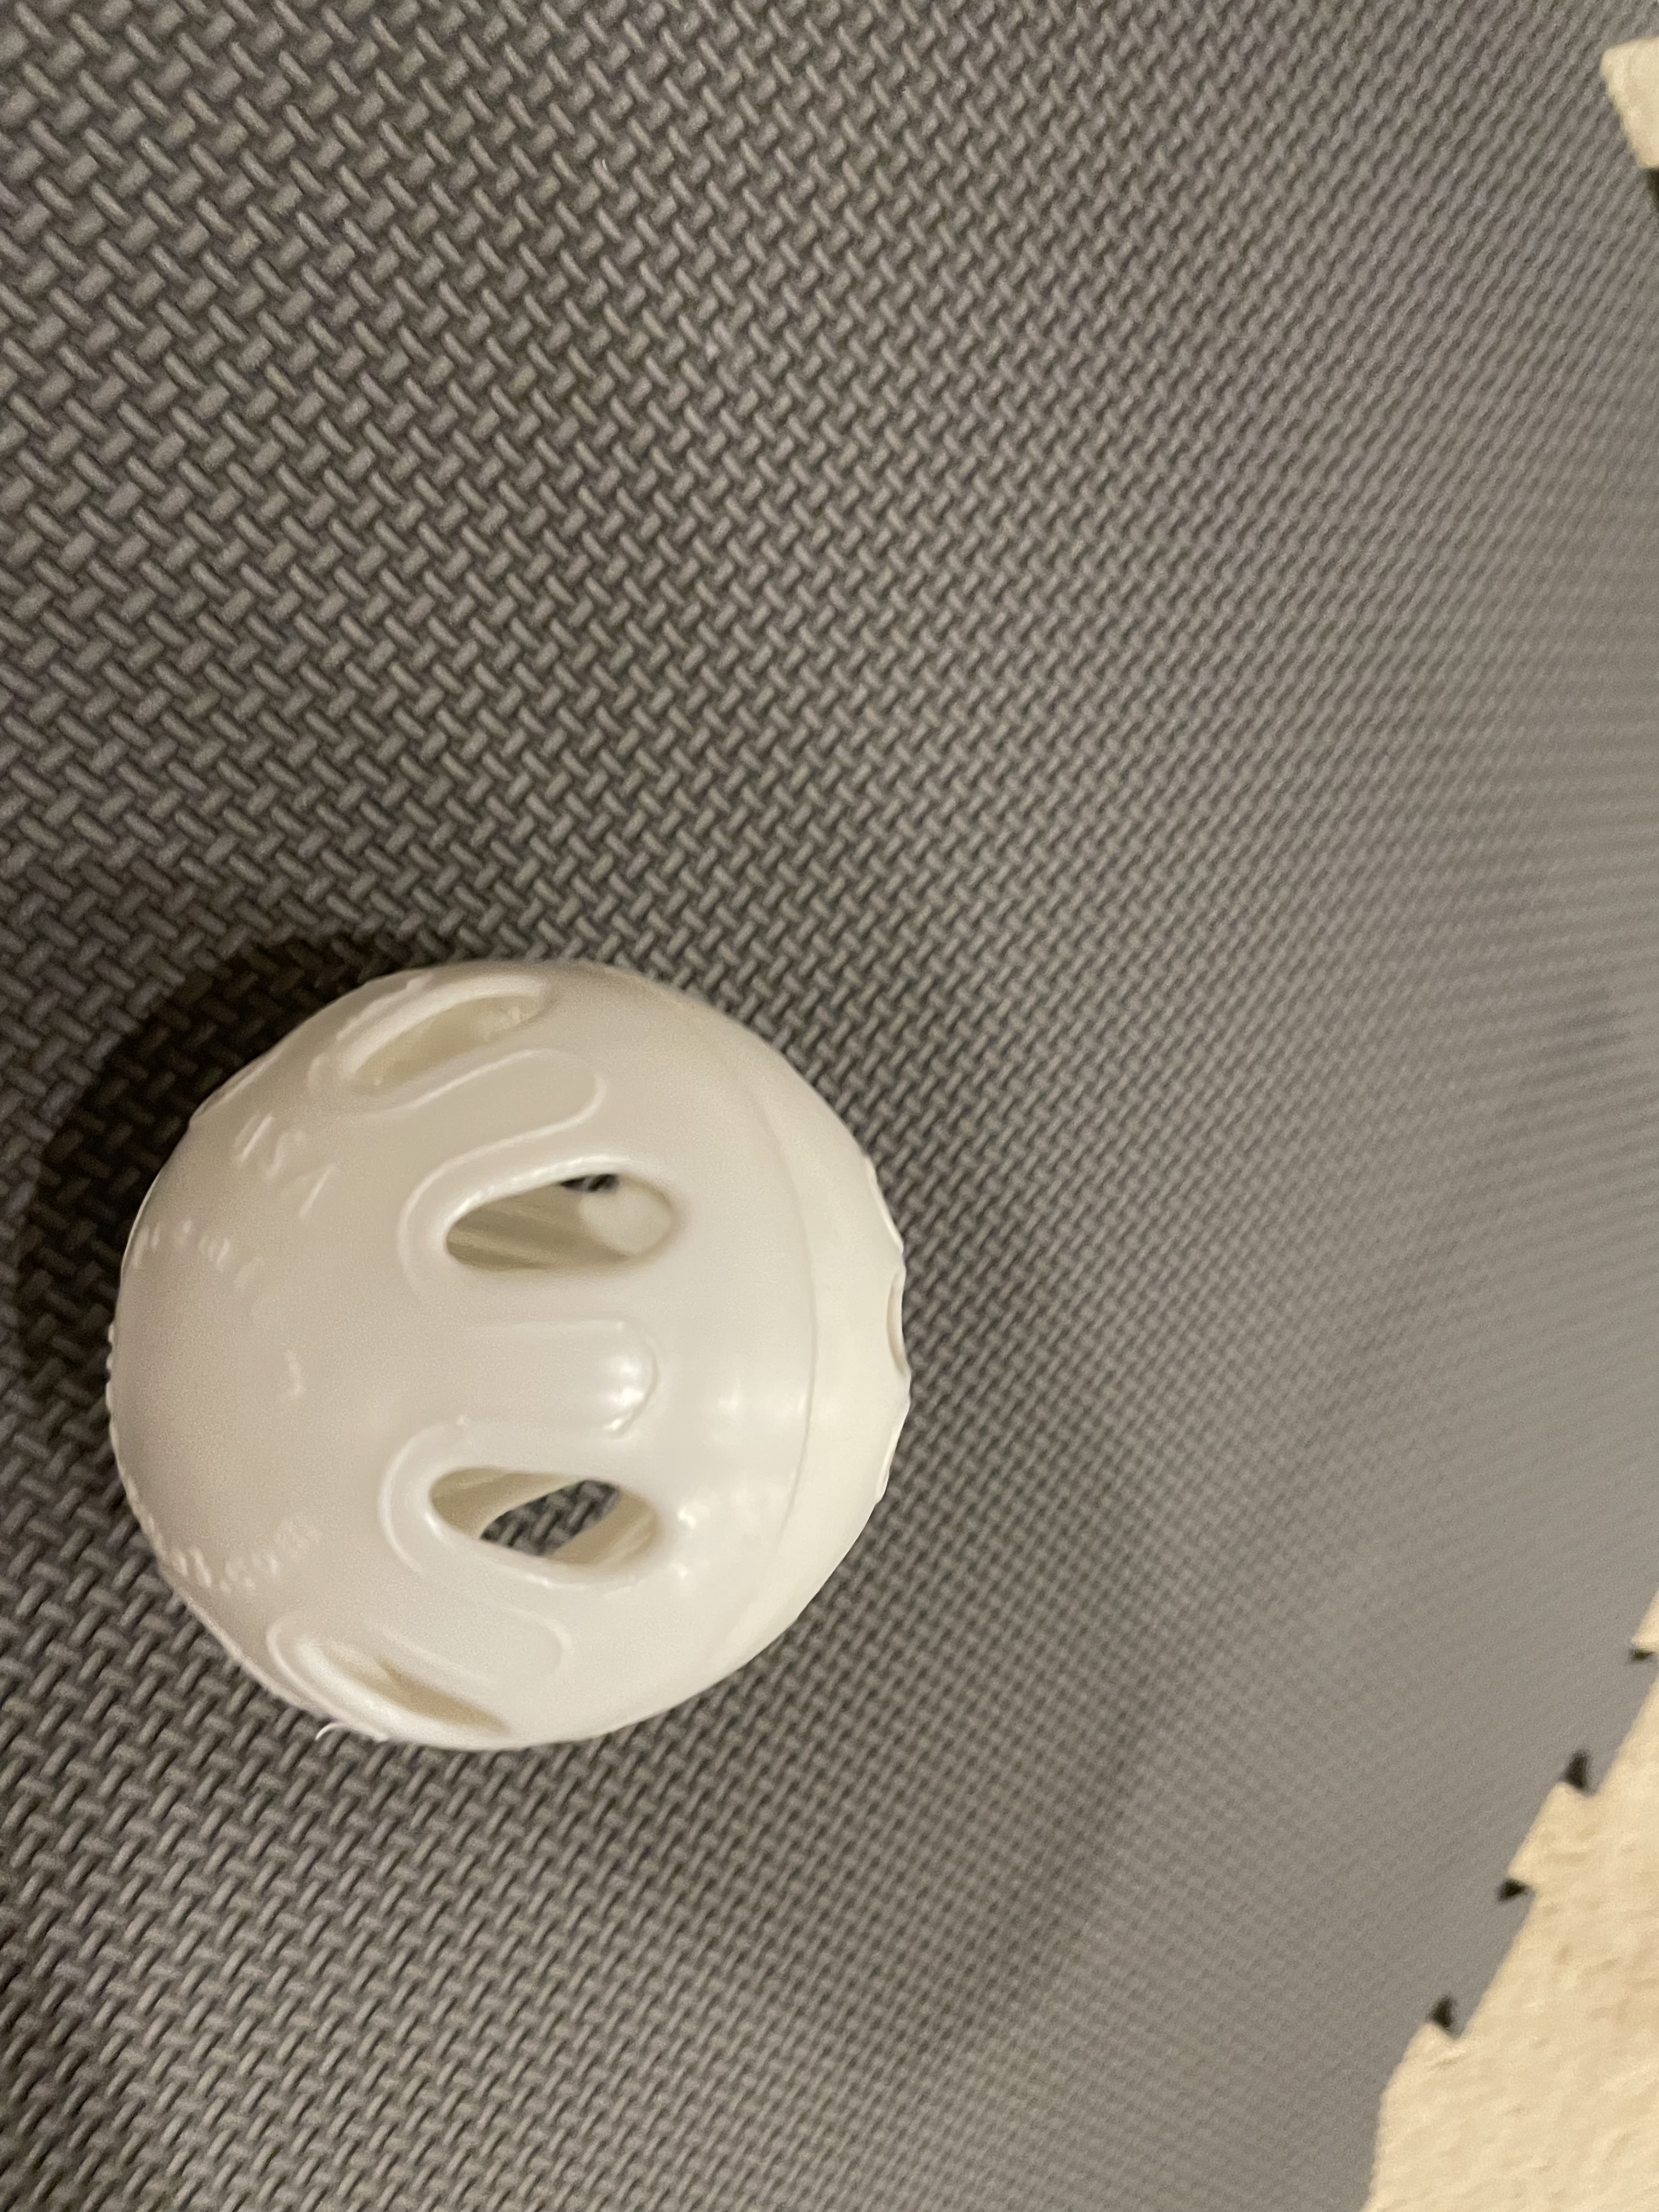ball: (51, 885, 997, 1831)
